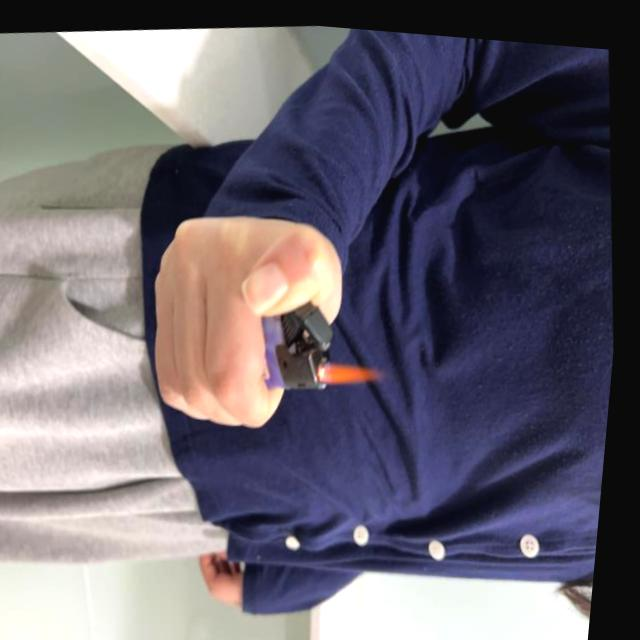helmet: (321, 346, 394, 383)
